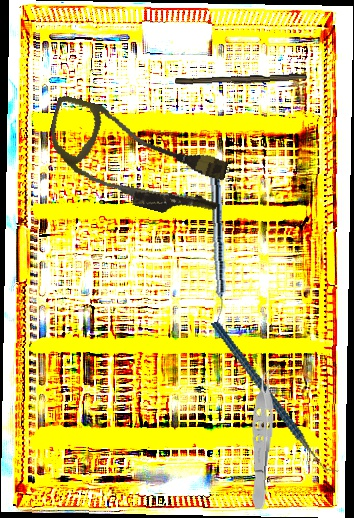Cannula: (36, 94, 235, 226)
Chopper: (211, 299, 341, 495)
Handpiece: (206, 163, 229, 321)
Scalpel Handle: (174, 71, 308, 89)
Tissue Forceps: (246, 363, 281, 511)
